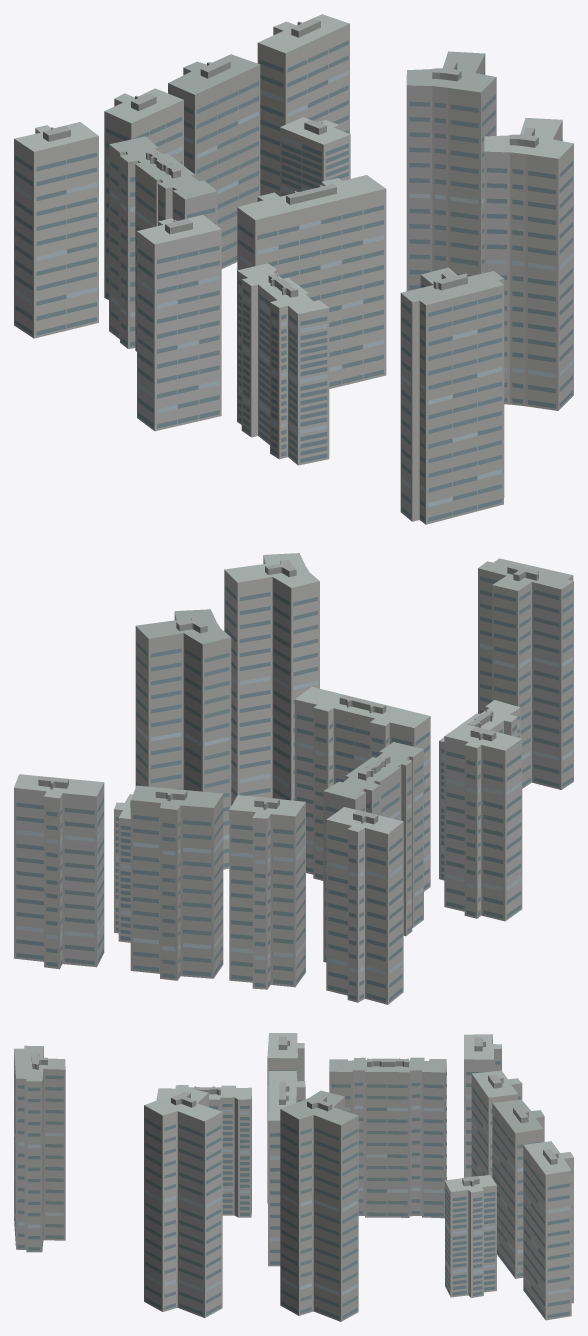
File: apt-a13485301.glb
3 views of the same model, one above another, from view 1: azimuth 30°, elevation 25°; view 2: azimuth 150°, elevation 25°; view 3: azimuth 270°, elevation 25° (orthographic). The views are drawn at different scales.
Visible parts, largest first — view 1: apt-a13485301; view 2: apt-a13485301; view 3: apt-a13485301.
Part boxes in pixels (box(x1,y1,x2,y2)): apt-a13485301: box(14, 14, 573, 524); apt-a13485301: box(14, 553, 573, 1004); apt-a13485301: box(14, 1033, 573, 1321).
Bounding box in the file's own units: 145 × 95 × 239.
